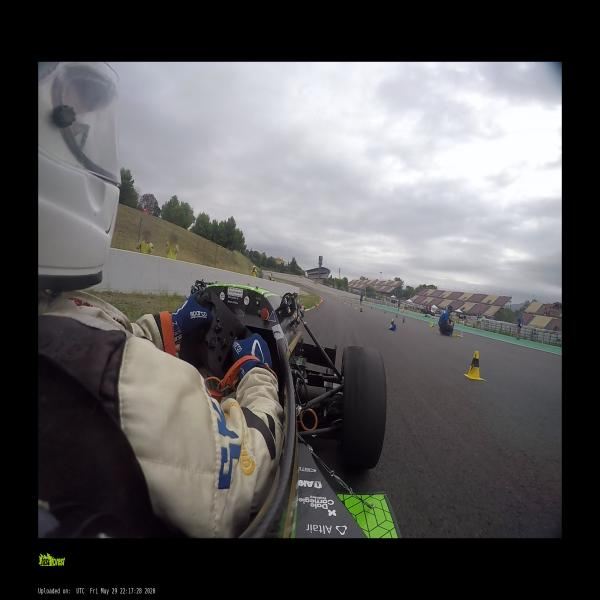blue_cone: (388, 325, 396, 331), (402, 317, 406, 323), (359, 307, 363, 312), (396, 313, 398, 318), (370, 306, 372, 310)
orange_cone: (315, 302, 317, 309), (319, 300, 321, 305), (302, 305, 304, 308)
yellow_cone: (463, 350, 483, 380), (429, 322, 434, 328), (354, 304, 357, 310), (391, 319, 393, 325), (349, 302, 350, 306), (384, 310, 385, 313)
